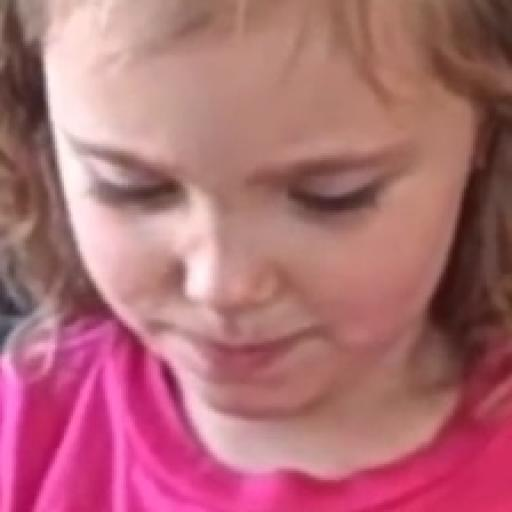Autism: (3, 3, 512, 452)
